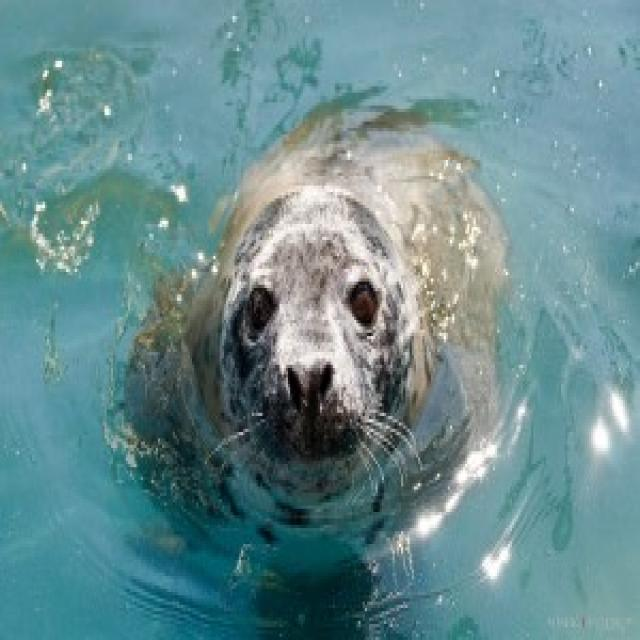Seal: (155, 127, 506, 525)
